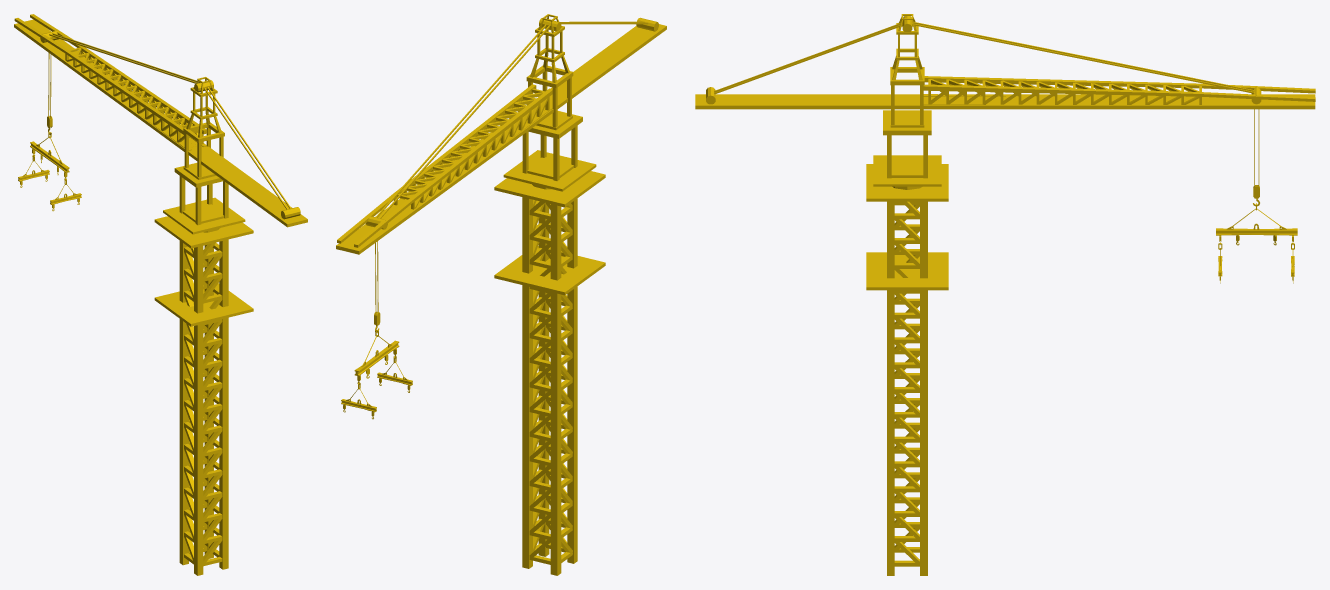
The model's file is Crane.fbx.
The picture shows the model from 3 angles, left to right: view 1: azimuth 30°, elevation 25°; view 2: azimuth 150°, elevation 25°; view 3: azimuth 270°, elevation 25°; orthographic projection. The views are drawn at different scales.
Visible parts, largest first — view 1: CraneBase, CraneTop; view 2: CraneBase, CraneTop; view 3: CraneTop, CraneBase.
Boxes of the visible parts, bbox=[...] form: CraneBase: bbox=[154, 216, 253, 575]; CraneTop: bbox=[14, 14, 307, 234]; CraneBase: bbox=[494, 171, 605, 575]; CraneTop: bbox=[336, 14, 666, 419]; CraneTop: bbox=[695, 14, 1315, 283]; CraneBase: bbox=[866, 164, 948, 575].
Bounding box in the file's own units: 600 × 4441 × 4531.
